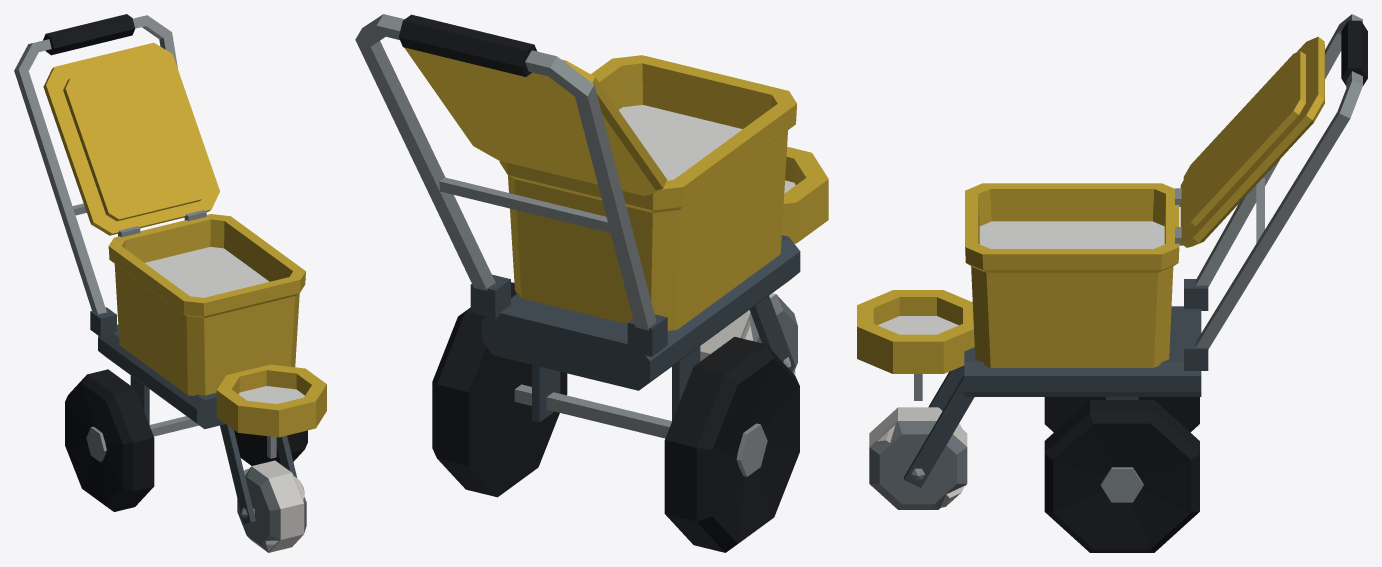
The model's file is line-marking-cart-2f7b12.glb.
3 renders of one model, left to right at view 1: azimuth 30°, elevation 25°; view 2: azimuth 150°, elevation 25°; view 3: azimuth 270°, elevation 25°, orthographic. The views are drawn at different scales.
Parts seen in each view (by area): view 1: cart-body, lid-mesh, wheel-l-mesh, handle-mesh, marking-wheel-mesh, wheel-r-mesh; view 2: cart-body, wheel-l-mesh, handle-mesh, lid-mesh, wheel-r-mesh, marking-wheel-mesh; view 3: cart-body, wheel-r-mesh, lid-mesh, handle-mesh, marking-wheel-mesh, wheel-l-mesh.
Part boxes in pixels (<box>): cart-body: <box>90,210,326,523</box>; lid-mesh: <box>43,42,219,235</box>; wheel-l-mesh: <box>65,369,154,511</box>; handle-mesh: <box>14,14,177,314</box>; marking-wheel-mesh: <box>237,460,306,552</box>; wheel-r-mesh: <box>234,430,307,465</box>; cart-body: <box>470,55,828,438</box>; wheel-l-mesh: <box>664,336,799,552</box>; handle-mesh: <box>355,14,656,330</box>; lid-mesh: <box>404,47,666,195</box>; wheel-r-mesh: <box>432,282,567,497</box>; marking-wheel-mesh: <box>700,293,797,375</box>; cart-body: <box>857,183,1208,487</box>; wheel-r-mesh: <box>1044,400,1199,552</box>; lid-mesh: <box>1180,36,1324,247</box>; handle-mesh: <box>1195,14,1367,349</box>; marking-wheel-mesh: <box>869,407,967,509</box>; wheel-l-mesh: <box>1044,397,1199,432</box>.
Size of the model in its own units: 0.5 by 0.9925 by 1.
